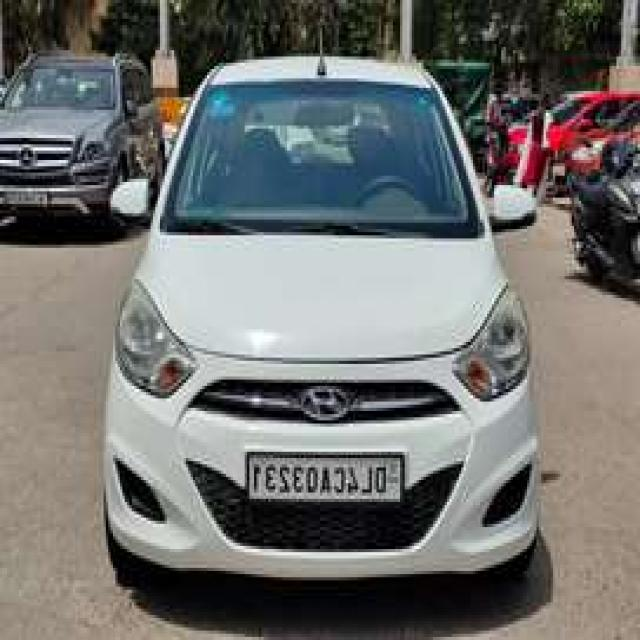license_plate: (242, 446, 407, 508)
